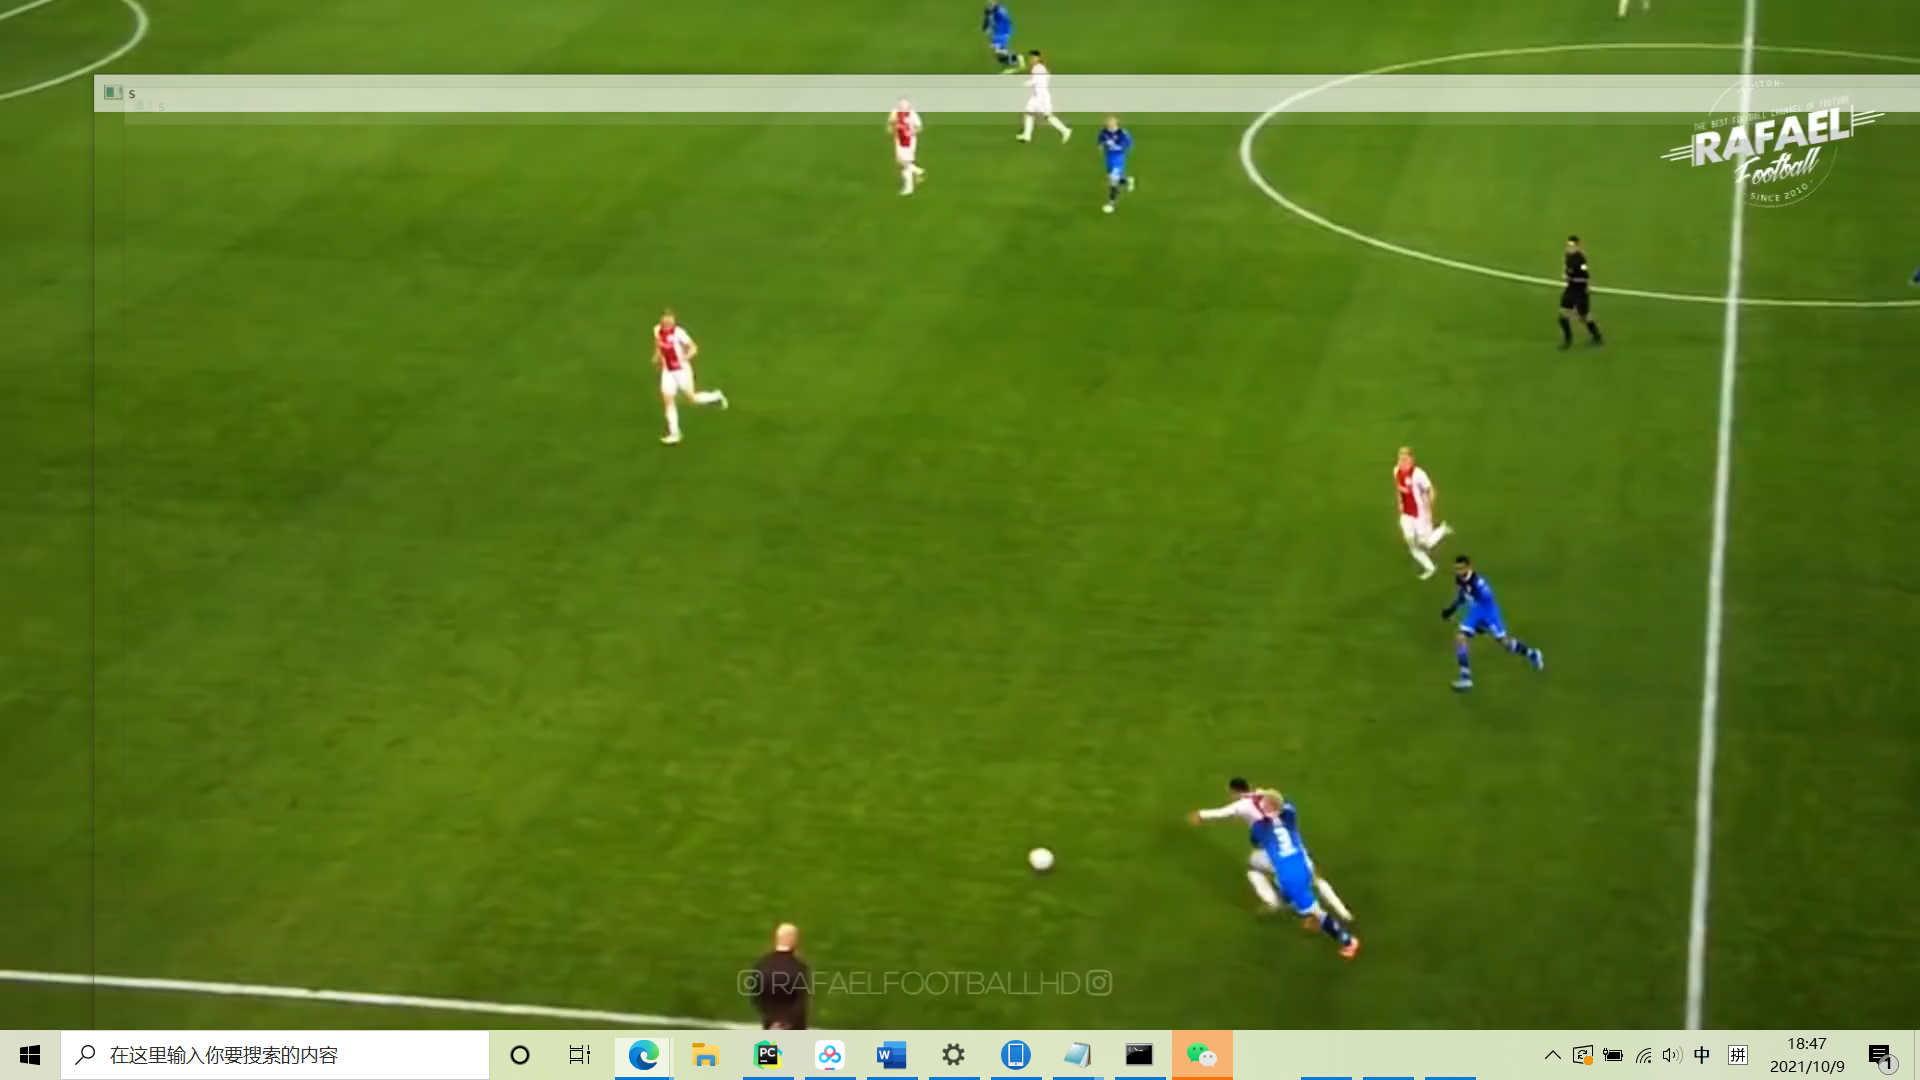ft: (1022, 841, 1062, 881)
